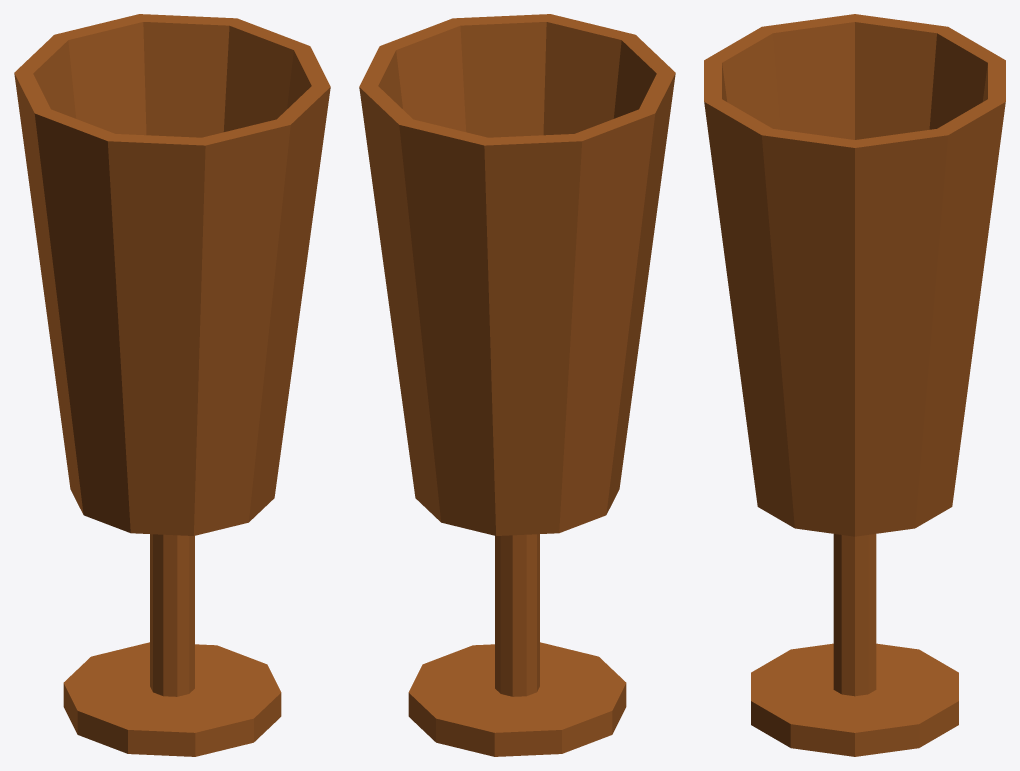
Rendered from SM_cup_01.FBX.
3 views of the same model, side by side, from view 1: azimuth 30°, elevation 25°; view 2: azimuth 150°, elevation 25°; view 3: azimuth 270°, elevation 25° (orthographic).
Parts seen in each view (by area): view 1: Object121; view 2: Object121; view 3: Object121.
Boxes of the visible parts, x1,y1,x2,y2 form: Object121: (14, 14, 330, 756); Object121: (359, 14, 675, 756); Object121: (704, 14, 1005, 756).
Bounding box in the file's own units: 22.09 × 48.39 × 21.01.
